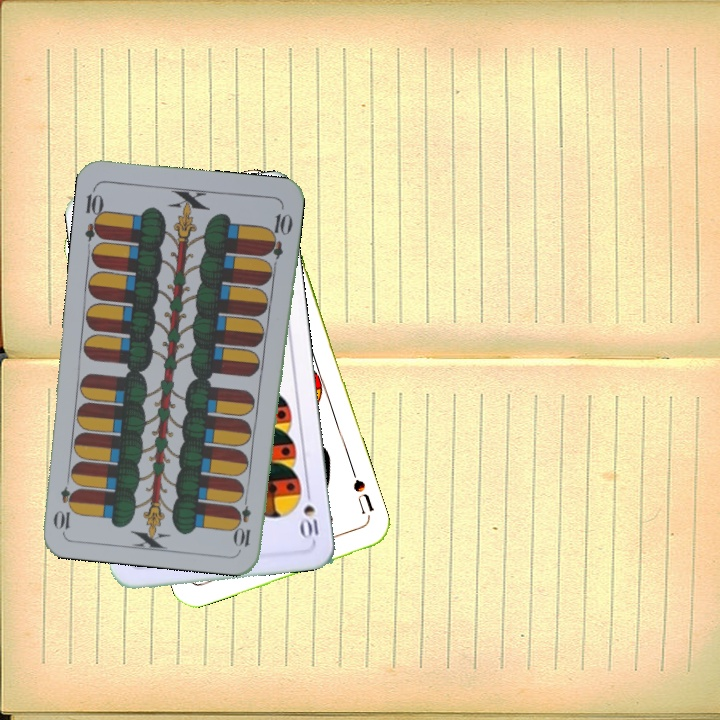E10: (81, 183, 108, 243), (233, 490, 254, 549)
S10: (294, 484, 322, 543)
SU: (349, 475, 377, 517)
